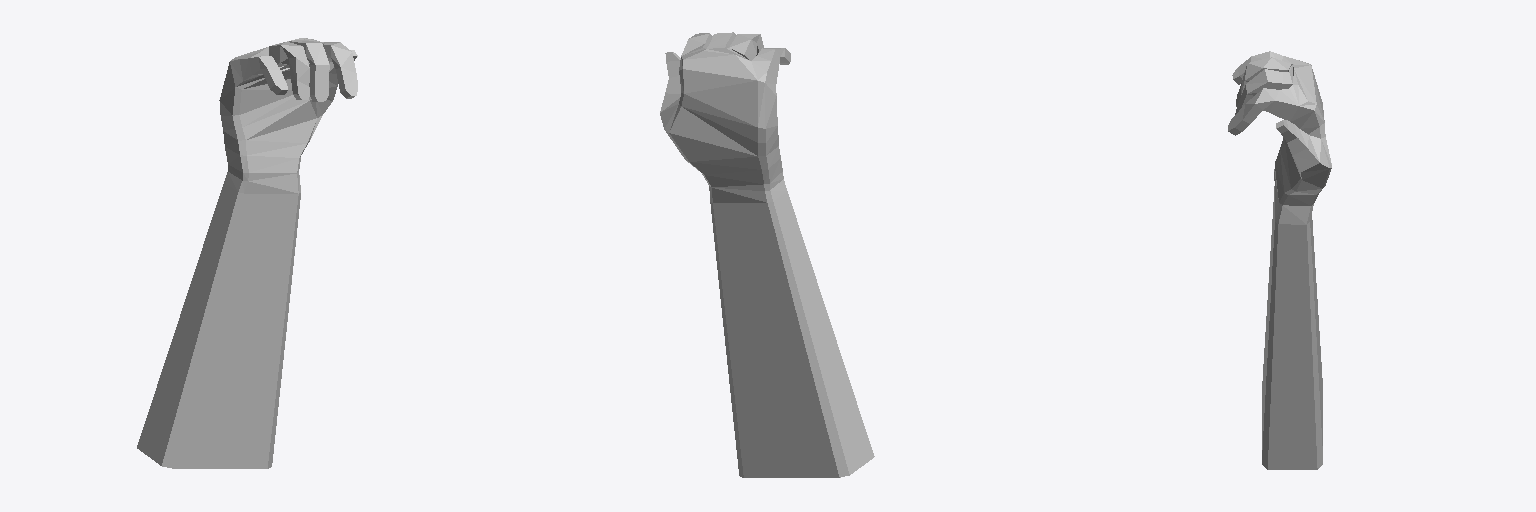
File: hand_anim16.obj
The picture shows the model from 3 angles: view 1: azimuth 30°, elevation 25°; view 2: azimuth 150°, elevation 25°; view 3: azimuth 270°, elevation 25°; orthographic projection.
Parts seen in each view (by area): view 1: Cube.001; view 2: Cube.001; view 3: Cube.001.
Part boxes in pixels (x1,y1,x2,y2): Cube.001: (137,38,357,468); Cube.001: (660,32,874,477); Cube.001: (1228,51,1331,469).
Size of the model in its own units: 1.46 by 2.9 by 0.66.